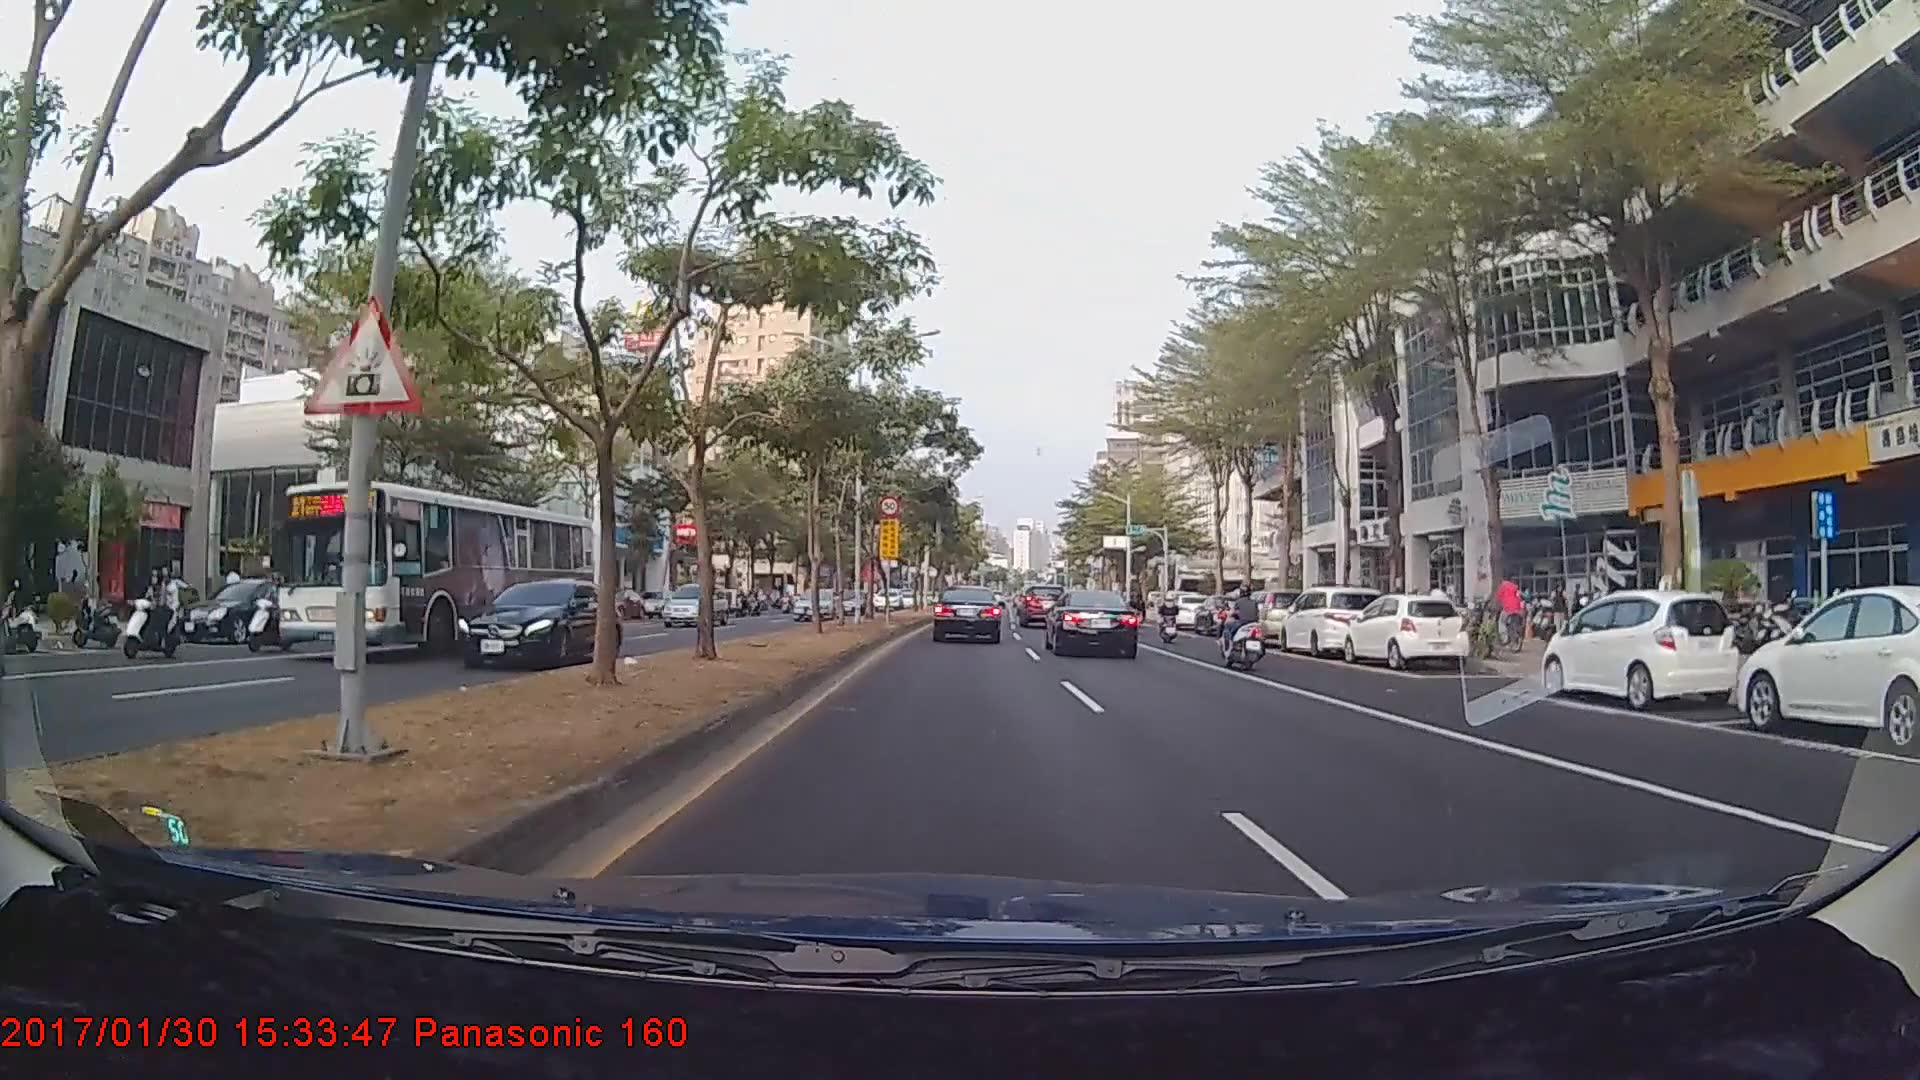rider: (118, 564, 186, 655), (1216, 582, 1282, 668), (1485, 571, 1531, 655), (1217, 587, 1269, 660), (1157, 586, 1185, 643)
vehicle: (266, 472, 594, 659), (1731, 584, 1920, 754), (1541, 587, 1734, 705), (455, 572, 625, 668), (1344, 591, 1467, 670), (173, 578, 317, 644), (1279, 583, 1384, 656), (1045, 588, 1141, 658), (1236, 585, 1316, 642), (931, 585, 1004, 644), (660, 581, 726, 624), (1018, 581, 1068, 626), (790, 583, 840, 618)
